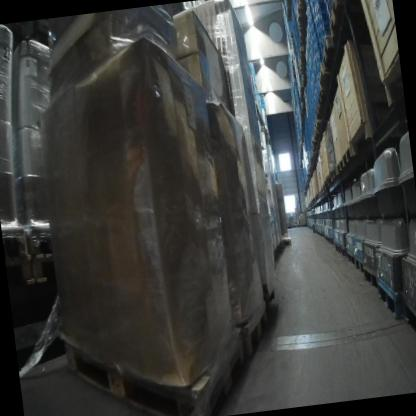pallet: (60, 309, 254, 416), (236, 300, 272, 360), (378, 51, 405, 107), (375, 273, 404, 320), (400, 289, 416, 368), (27, 251, 58, 286), (5, 255, 35, 291), (1, 223, 29, 259), (23, 223, 54, 255), (326, 0, 345, 39), (18, 19, 49, 42), (319, 37, 336, 66), (362, 264, 379, 288), (340, 143, 353, 166), (322, 173, 334, 193), (335, 155, 345, 178), (294, 4, 304, 27), (346, 248, 358, 265), (355, 257, 366, 275), (329, 167, 340, 184), (309, 131, 320, 147), (313, 100, 321, 118), (313, 116, 322, 131), (338, 246, 348, 259), (281, 236, 292, 247), (317, 91, 326, 104), (335, 243, 342, 256), (297, 0, 304, 5), (330, 238, 334, 246), (292, 224, 300, 228), (286, 225, 292, 229)
small_load_carrier: (305, 31, 318, 100), (315, 66, 321, 88), (309, 32, 315, 53), (307, 52, 313, 72), (314, 77, 320, 96), (312, 52, 318, 71), (311, 61, 317, 78), (303, 47, 309, 64), (310, 69, 316, 85), (309, 76, 315, 92), (306, 63, 312, 78), (306, 20, 311, 37), (308, 46, 313, 62), (305, 39, 310, 55), (312, 91, 317, 107)
